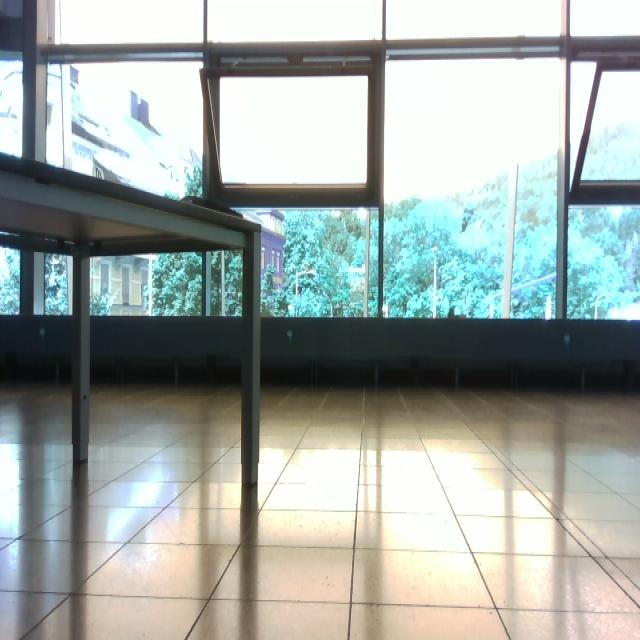door: (75, 245, 255, 485)
light bulb: (295, 269, 317, 317), (382, 305, 389, 318)
pillar: (71, 248, 91, 464)
tiled floor: (2, 383, 639, 639)
window: (1, 1, 640, 324), (382, 52, 564, 320), (208, 60, 377, 202)
